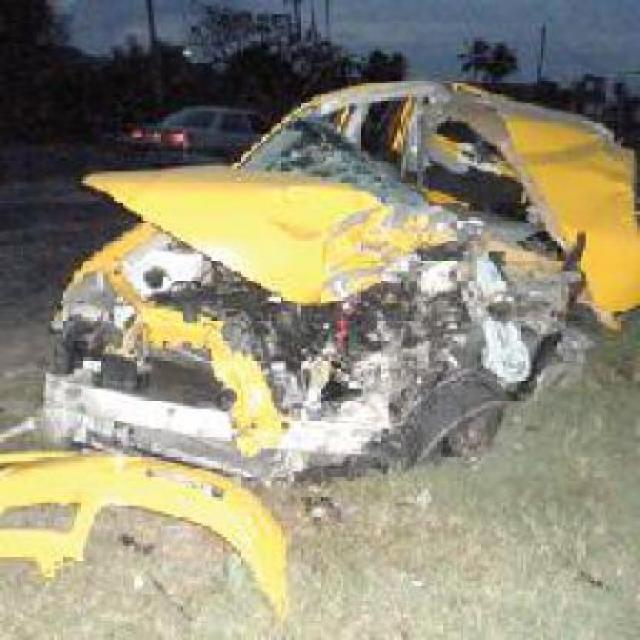damaged-front-bumper: (78, 340, 372, 458)
damaged-hood: (89, 161, 462, 314)
